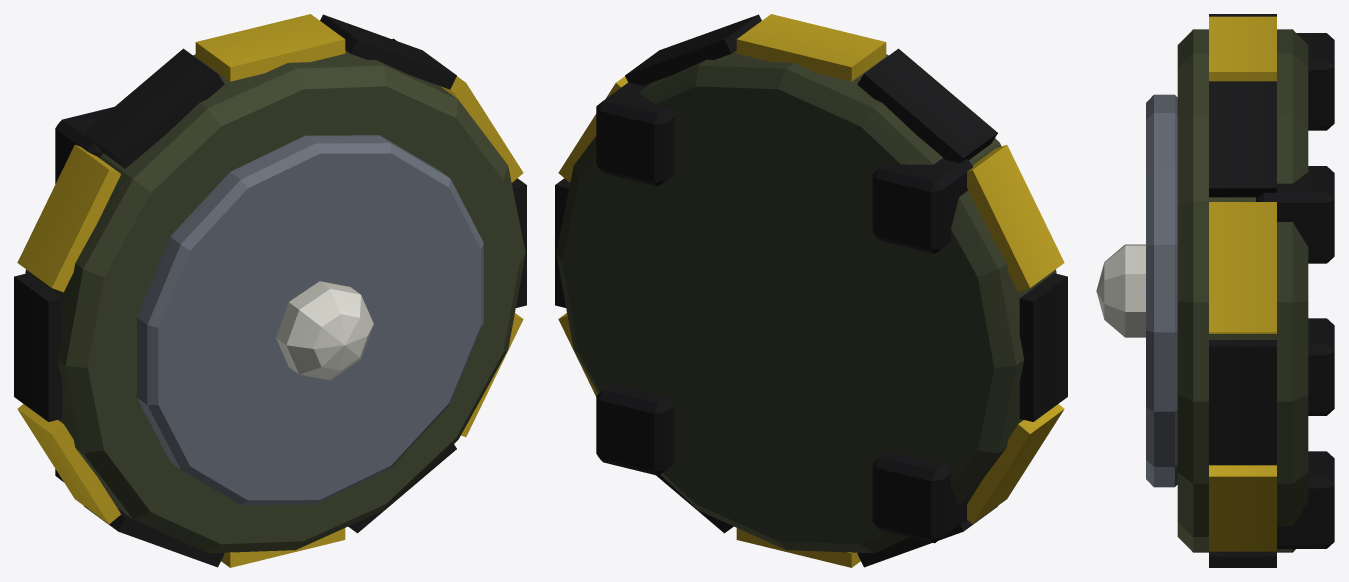
Rendered from mine.glb.
3 views of the same model, side by side, from view 1: azimuth 30°, elevation 25°; view 2: azimuth 150°, elevation 25°; view 3: azimuth 270°, elevation 25° (orthographic).
Parts seen in each view (by area): view 1: mine; view 2: mine; view 3: mine.
Part boxes in pixels (x1,y1,x2,y2): mine: (14, 14, 526, 567); mine: (555, 14, 1067, 567); mine: (1096, 14, 1334, 567).
Size of the model in its own units: 0.208 by 0.208 by 0.091.
